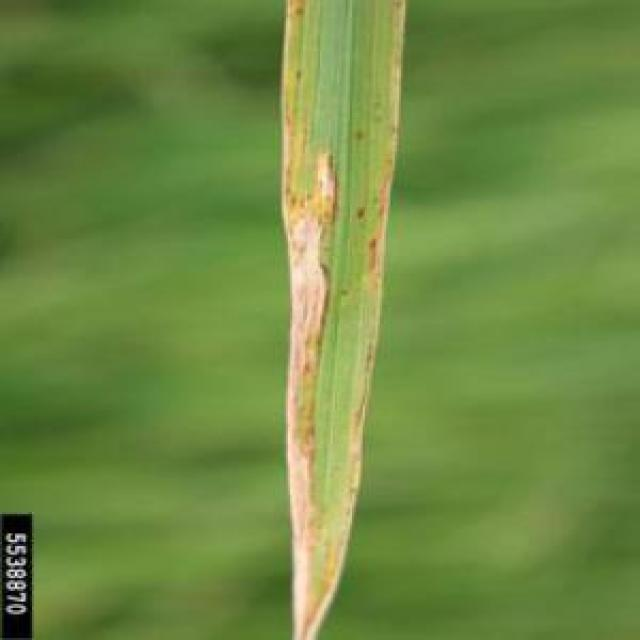Bacterial_Blight: (272, 109, 353, 640)
